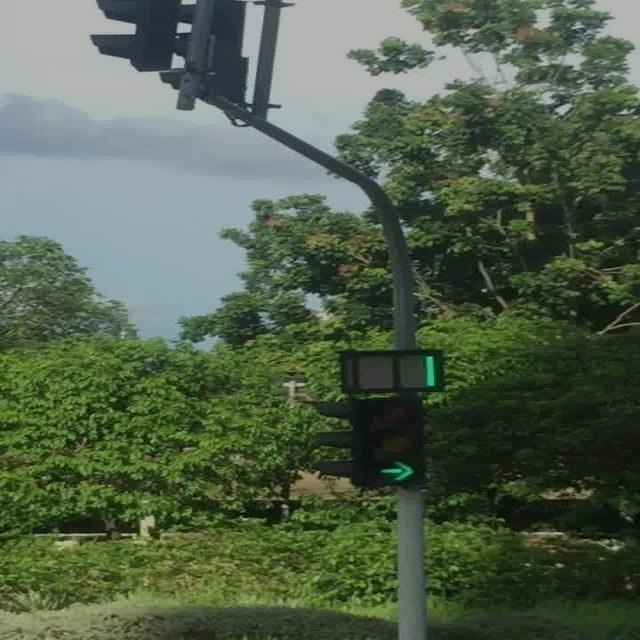Green: (372, 398, 424, 486)
